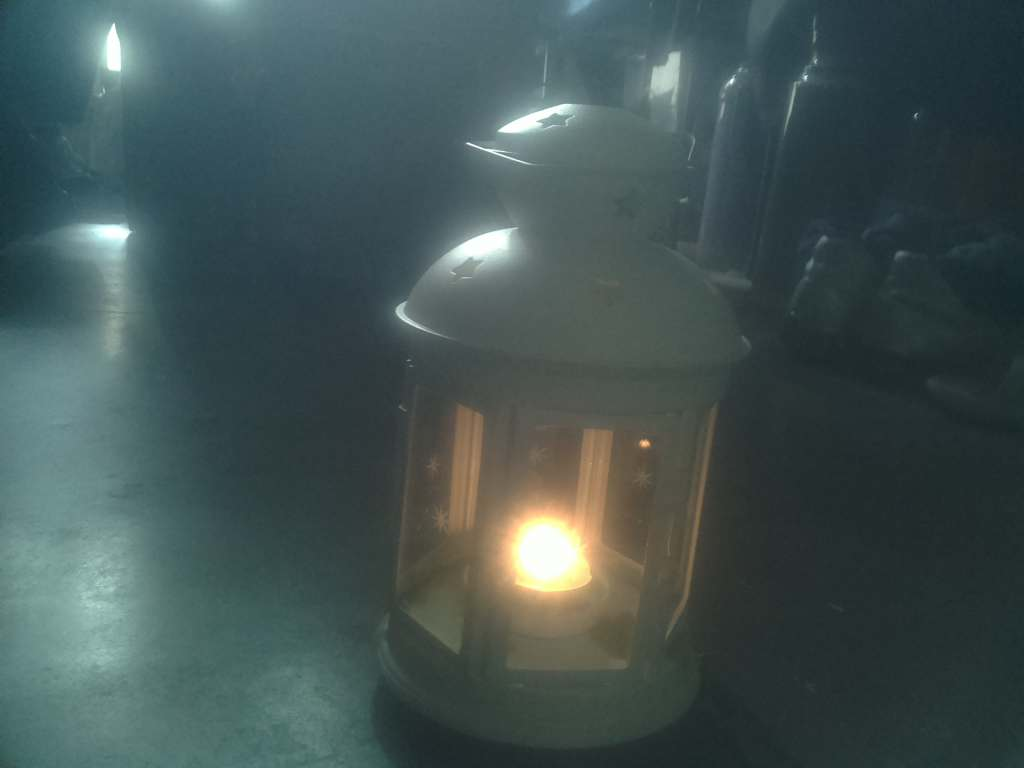fire: (481, 507, 606, 610)
